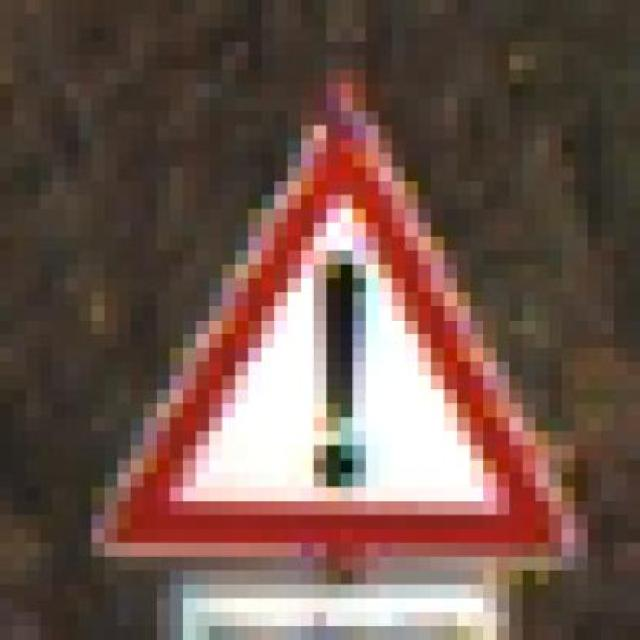Attention Please-: (78, 83, 588, 571)
